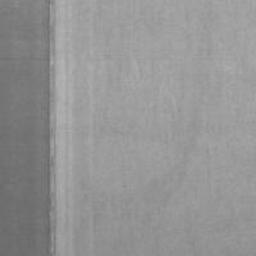Welding line: (47, 0, 58, 256)
